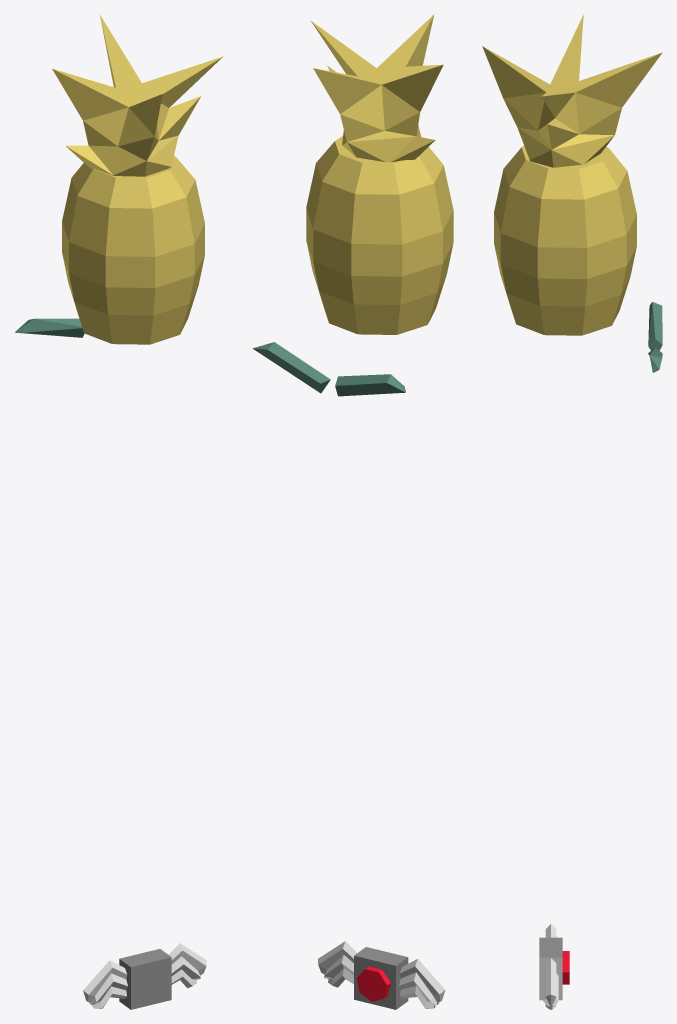
File: bouton.glb
3 renders of one model, left to right at view 1: azimuth 30°, elevation 25°; view 2: azimuth 150°, elevation 25°; view 3: azimuth 270°, elevation 25°, orthographic. The views are drawn at different scales.
Parts seen in each view (by area): view 1: ananasdore.011, Cylinder.117, button.002, Cylinder.123, Cylinder.122, Cylinder.118; view 2: ananasdore.011, Cylinder.117, button.002, Cylinder.123, Cylinder.119, Cylinder.118, Cylinder.122; view 3: ananasdore.011, Cylinder.117, button.002, Cylinder.122, Cylinder.118.
Part boxes in pixels (x1=…): ananasdore.011: x1=62, y1=156, x2=204, y2=344; Cylinder.117: x1=52, y1=15, x2=223, y2=176; button.002: x1=119, y1=949, x2=171, y2=1009; Cylinder.123: x1=83, y1=960, x2=127, y2=1008; Cylinder.122: x1=168, y1=943, x2=206, y2=988; Cylinder.118: x1=15, y1=318, x2=84, y2=337; ananasdore.011: x1=306, y1=136, x2=453, y2=334; Cylinder.117: x1=310, y1=14, x2=443, y2=162; button.002: x1=354, y1=947, x2=408, y2=1009; Cylinder.123: x1=399, y1=959, x2=445, y2=1008; Cylinder.119: x1=252, y1=342, x2=330, y2=393; Cylinder.118: x1=335, y1=374, x2=405, y2=396; Cylinder.122: x1=318, y1=941, x2=356, y2=987; ananasdore.011: x1=494, y1=145, x2=636, y2=335; Cylinder.117: x1=482, y1=15, x2=662, y2=167; button.002: x1=539, y1=937, x2=569, y2=1000; Cylinder.122: x1=543, y1=958, x2=558, y2=1009; Cylinder.118: x1=648, y1=302, x2=662, y2=350.
Bounding box in the file's own units: 1.85 × 11.03 × 1.92.
Materials: 2 (1 with a texture image).
